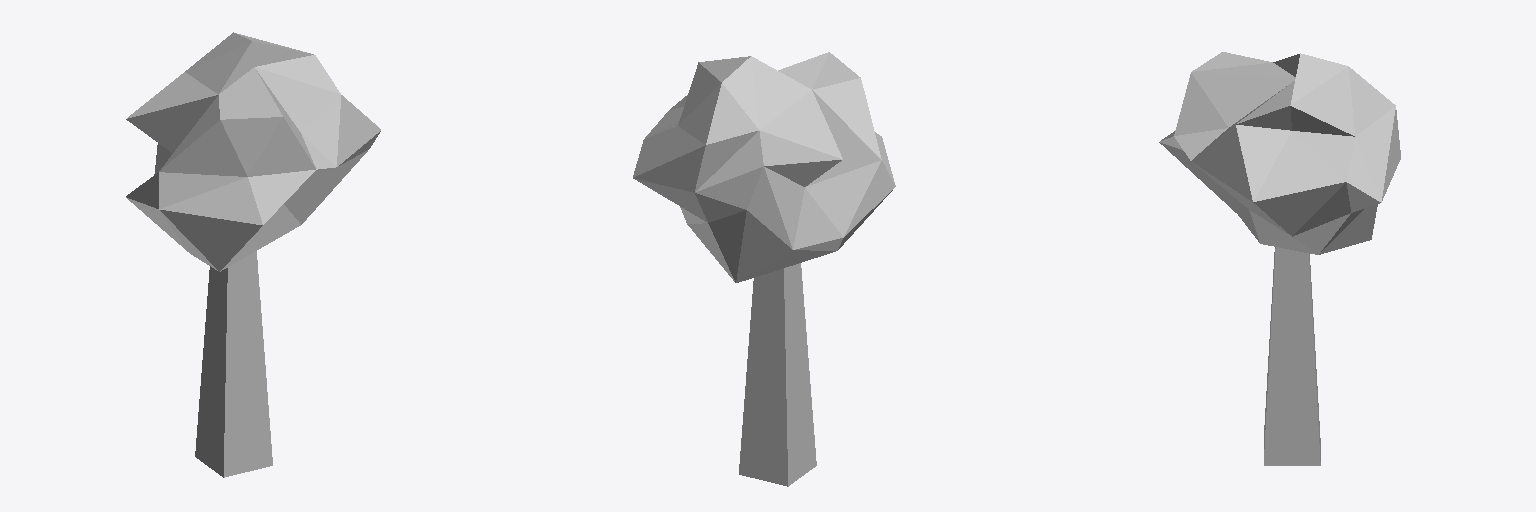
File: tree1.obj
3 views of the same model, side by side, from view 1: azimuth 30°, elevation 25°; view 2: azimuth 150°, elevation 25°; view 3: azimuth 270°, elevation 25° (orthographic).
Visible parts, largest first — view 1: Icosphere.004_Icosphere.003, Cube.004_Cube.007; view 2: Icosphere.004_Icosphere.003, Cube.004_Cube.007; view 3: Icosphere.004_Icosphere.003, Cube.004_Cube.007.
Part boxes in pixels (left/top/right/bottom): Icosphere.004_Icosphere.003: left=126, top=32, right=380, bottom=271; Cube.004_Cube.007: left=195, top=251, right=272, bottom=477; Icosphere.004_Icosphere.003: left=633, top=52, right=895, bottom=282; Cube.004_Cube.007: left=739, top=263, right=816, bottom=486; Icosphere.004_Icosphere.003: left=1159, top=52, right=1400, bottom=254; Cube.004_Cube.007: left=1264, top=247, right=1320, bottom=465.
Size of the model in its own units: 1.91 by 3.35 by 1.79.